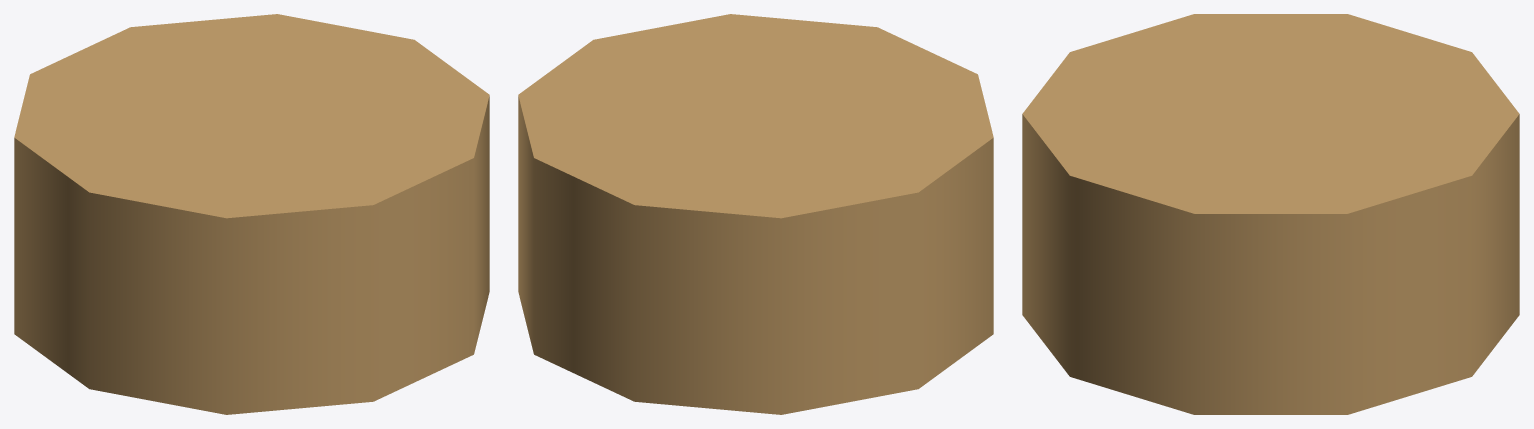
File: rope_coil.glb
3 renders of one model, left to right at view 1: azimuth 30°, elevation 25°; view 2: azimuth 150°, elevation 25°; view 3: azimuth 270°, elevation 25°, orthographic. The views are drawn at different scales.
Visible parts, largest first — view 1: rope_coil; view 2: rope_coil; view 3: rope_coil.
Part boxes in pixels (x1,y1,x2,y2): rope_coil: (14, 14, 489, 414); rope_coil: (518, 14, 993, 414); rope_coil: (1022, 14, 1519, 414).
Bounding box in the file's own units: 0.5326 × 0.25 × 0.56.
